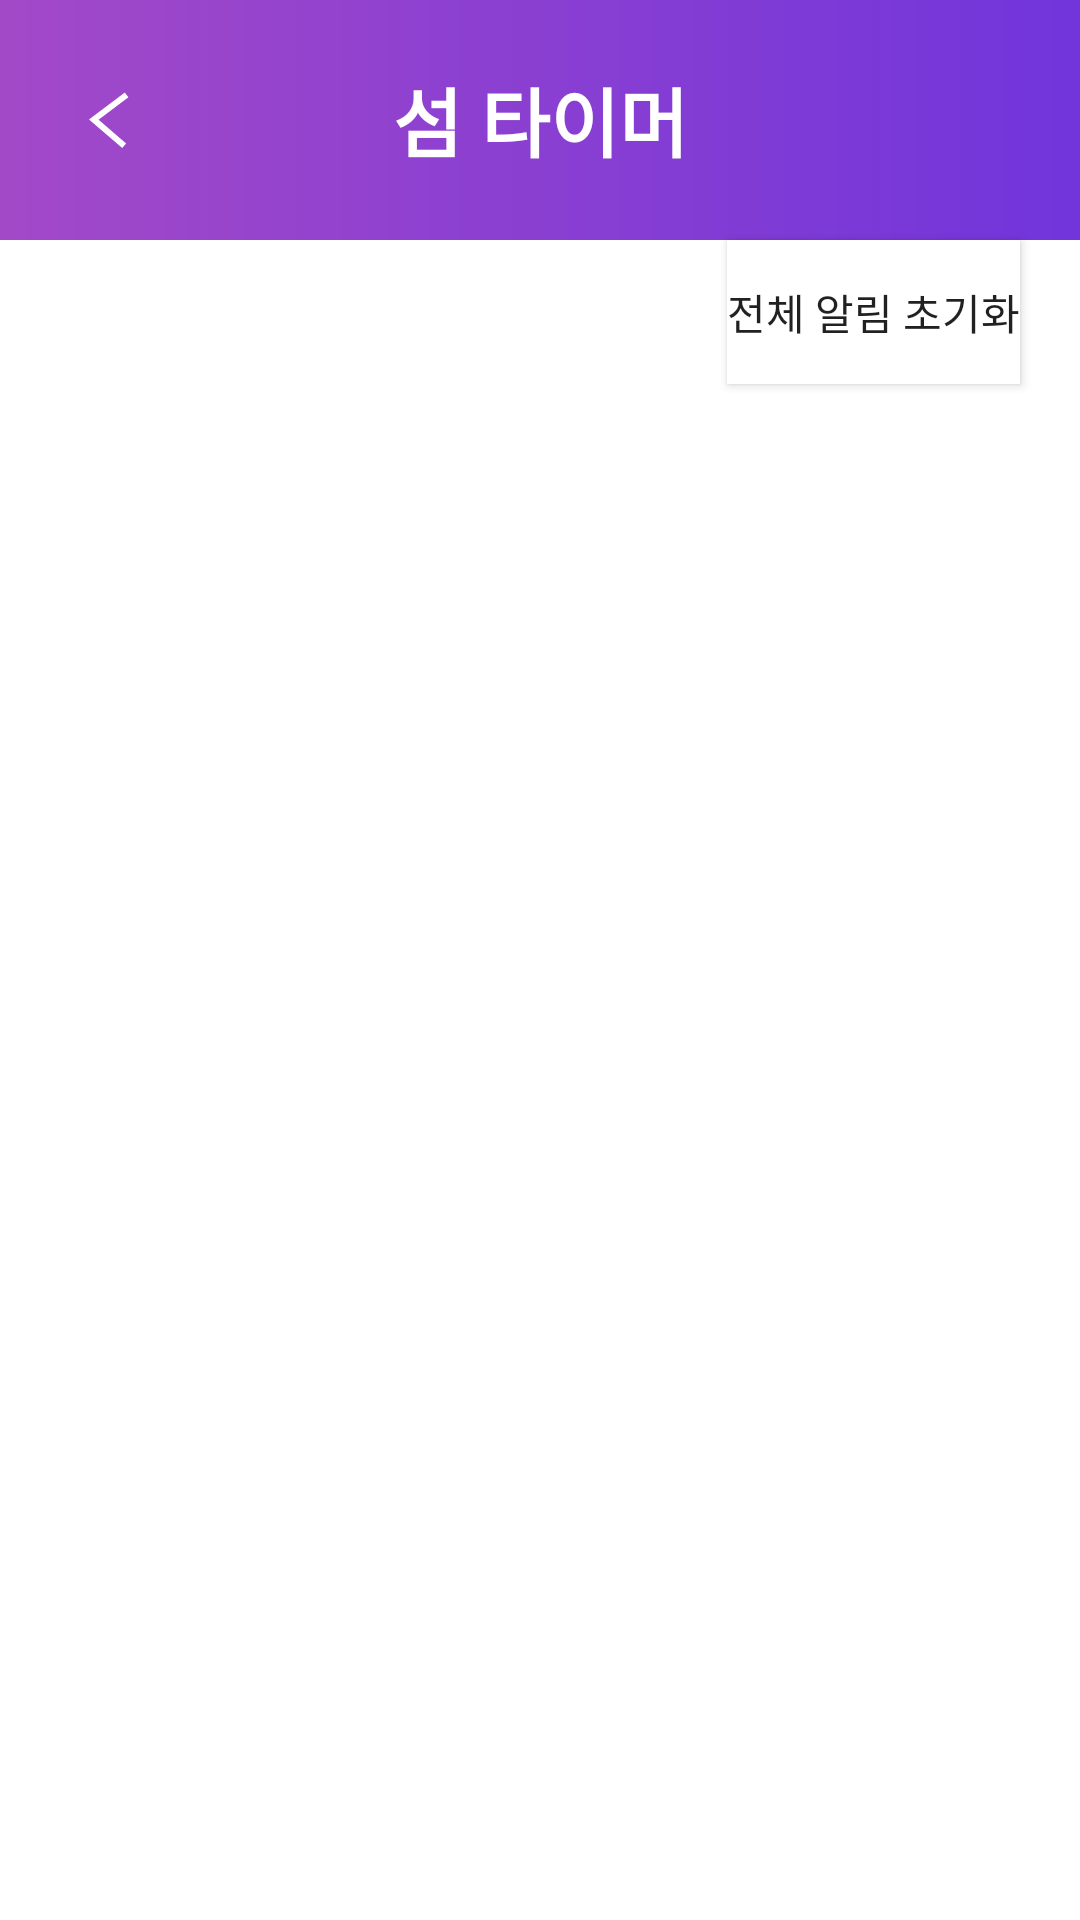

Screen size 1080 x 1920. Icon name, then its center in pixels as point (x, y):
back: point (109, 120)
